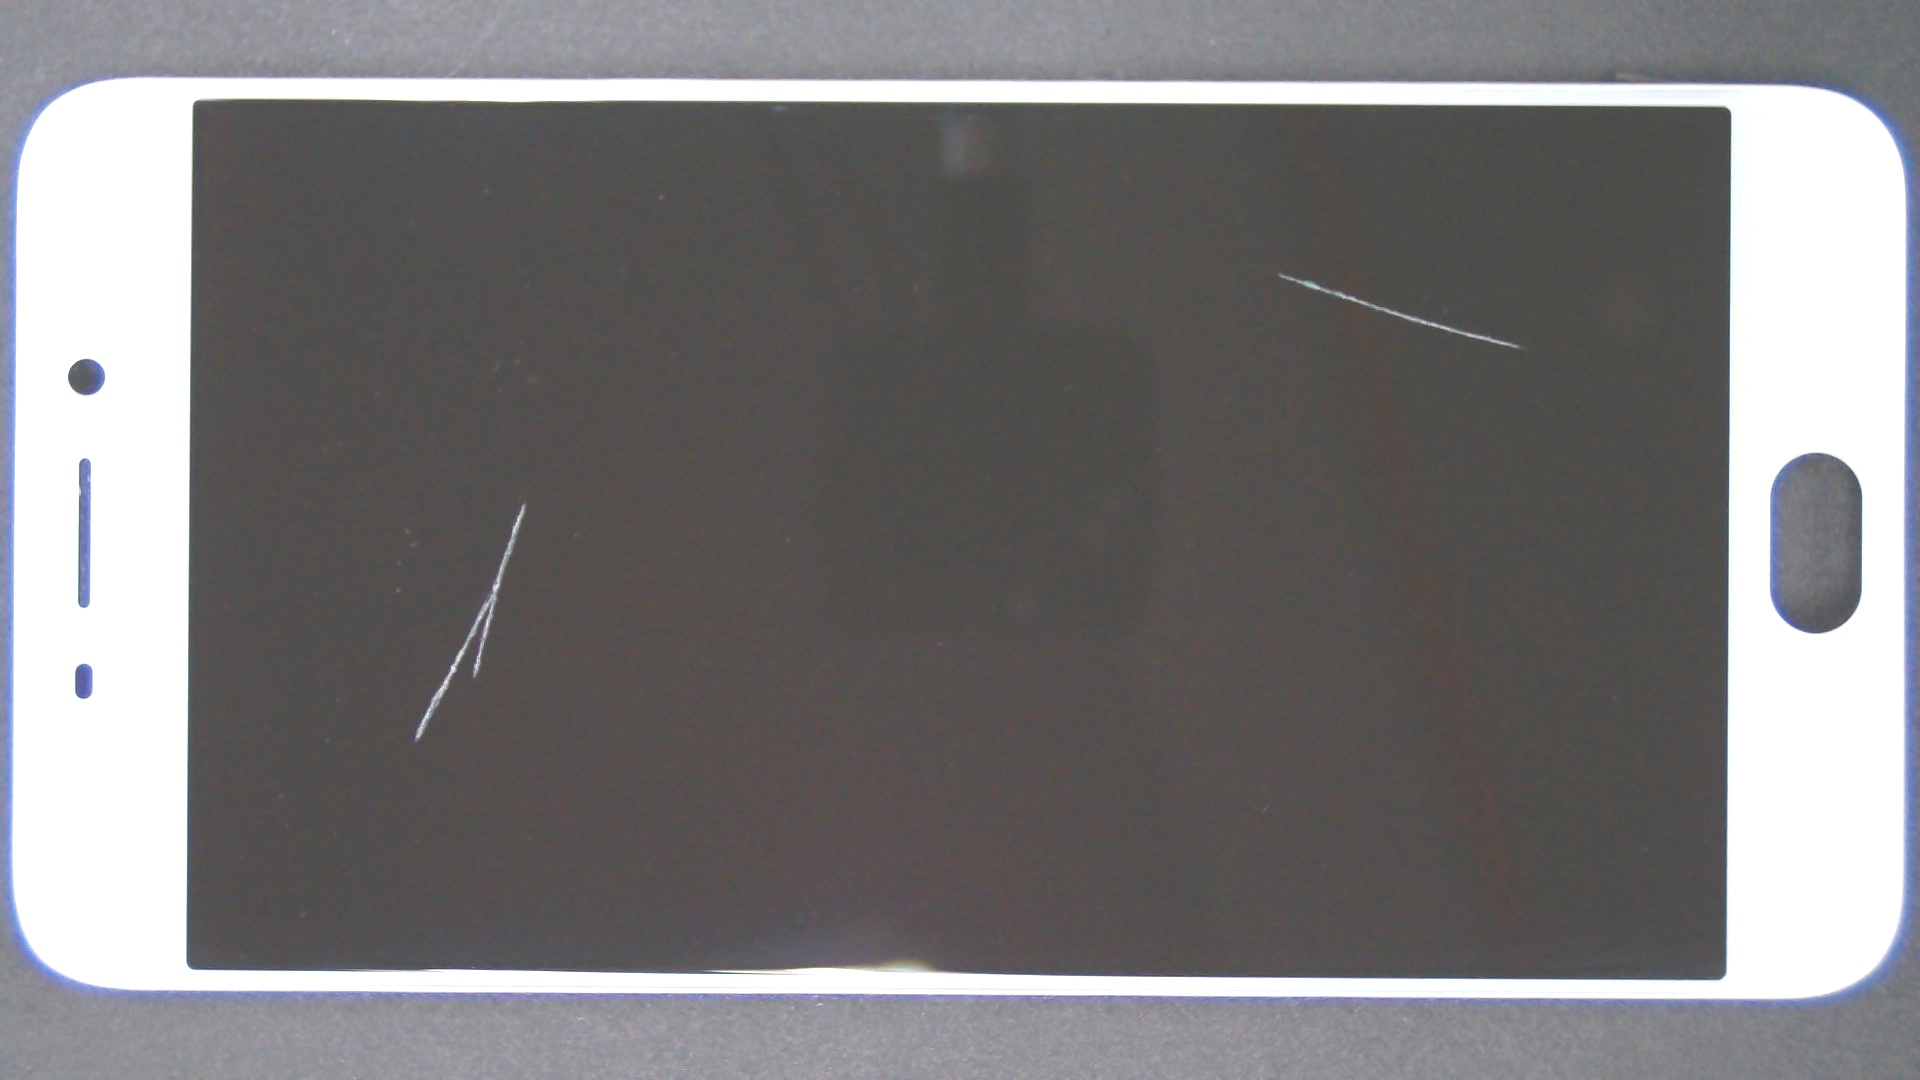oil: (638, 137, 1916, 410), (262, 251, 787, 753)
